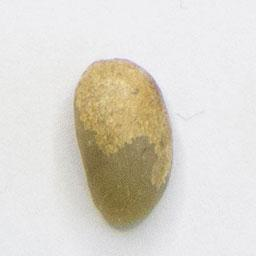longberry: (69, 52, 176, 232)
